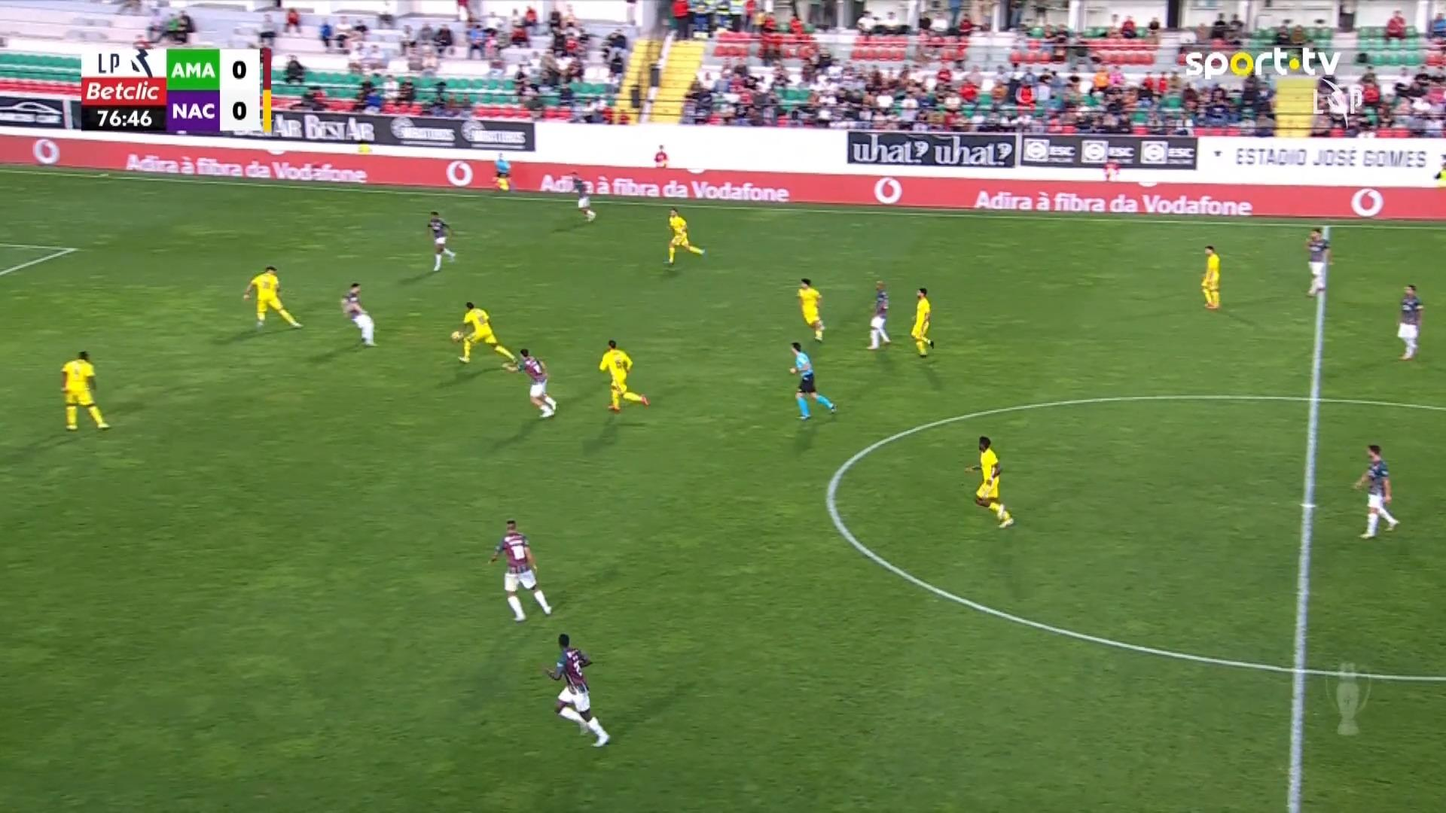ball: (975, 495, 990, 506), (450, 330, 462, 342)
player: (543, 632, 610, 747), (488, 518, 553, 622), (963, 435, 1014, 528), (1351, 443, 1399, 538), (449, 300, 517, 367), (59, 349, 111, 431), (502, 347, 557, 419), (242, 264, 302, 329), (597, 338, 648, 412), (662, 206, 704, 265), (339, 282, 377, 347), (1396, 283, 1423, 359), (1305, 227, 1332, 297), (796, 277, 825, 342), (426, 210, 456, 272), (910, 286, 934, 358), (866, 280, 891, 349), (569, 171, 596, 223), (1200, 244, 1220, 309)
referee: (787, 341, 837, 420), (492, 151, 511, 191)
